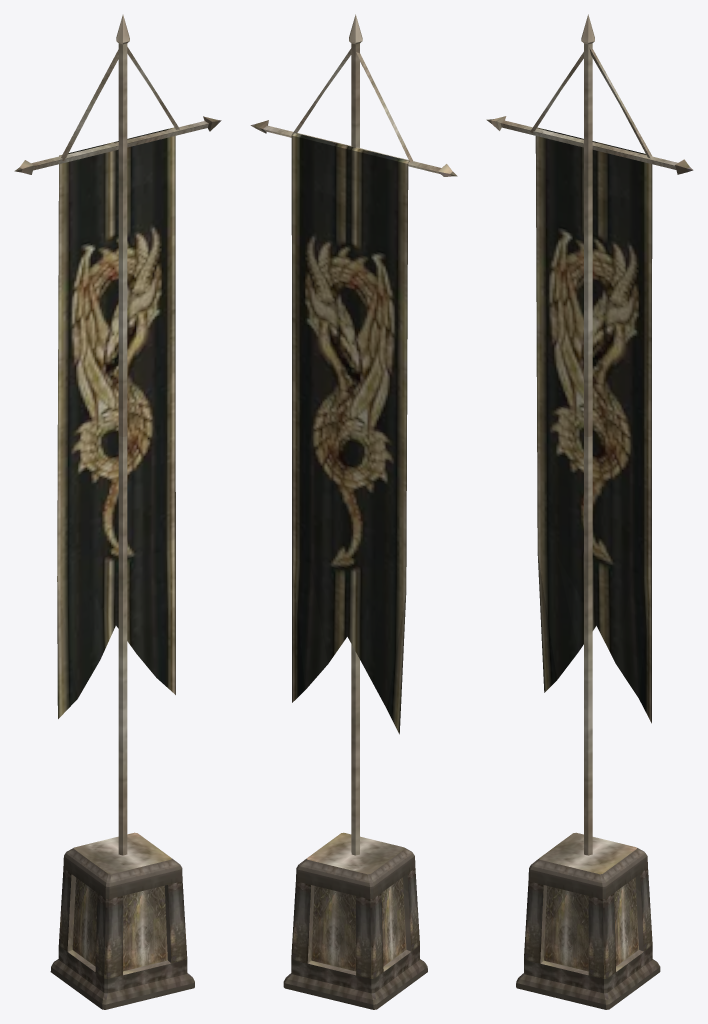
Rendered from TW2_5_TEMPLE_02_F-transformed.glb.
3 renders of one model, left to right at view 1: azimuth 30°, elevation 25°; view 2: azimuth 150°, elevation 25°; view 3: azimuth 330°, elevation 25°, orthographic.
Parts seen in each view (by area): view 1: default; view 2: default; view 3: default.
Boxes of the visible parts, box(x1,y1,x2,y2) form: default: box(14, 14, 221, 1009); default: box(250, 14, 457, 1009); default: box(486, 14, 693, 1009).
Bounding box in the file's own units: 2.31 × 10.25 × 1.03.
1 material, 1 textured.
